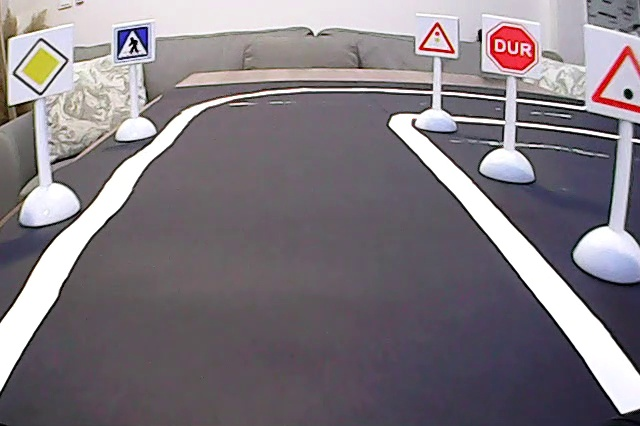green light: (589, 40, 640, 120)
pedestrian crossing: (114, 24, 154, 64)
red light: (418, 18, 458, 58)
stop sign: (481, 18, 540, 77)
